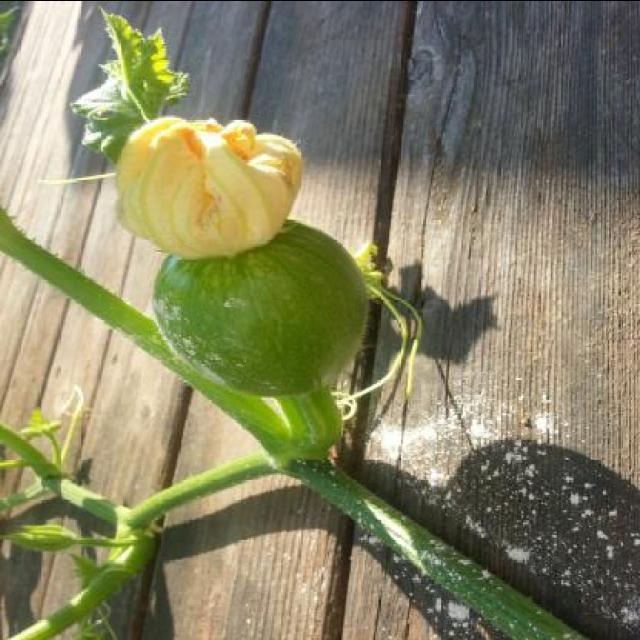Zucchini: (150, 220, 378, 406)
